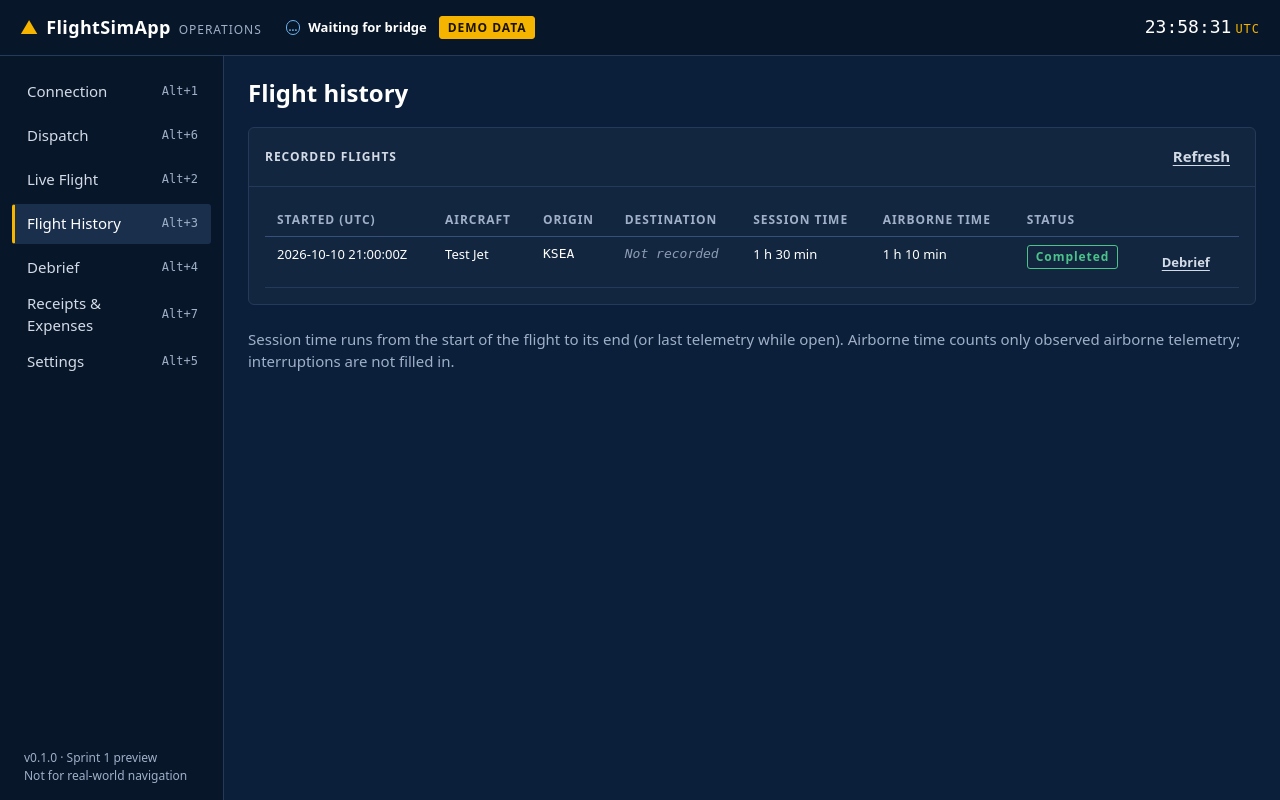
flight history › lists recorded flights with session vs airborne time and navigates to their debrief (test data only)
Expected: the row "Test Jet" shows "KSEA", [543,246,574,261]
Expected: the row "Test Jet" shows "Not recorded", [625,246,719,261]
Click the button with aria-label "Open debrief".
click(1186, 262)  # box [1153,245,1219,279]
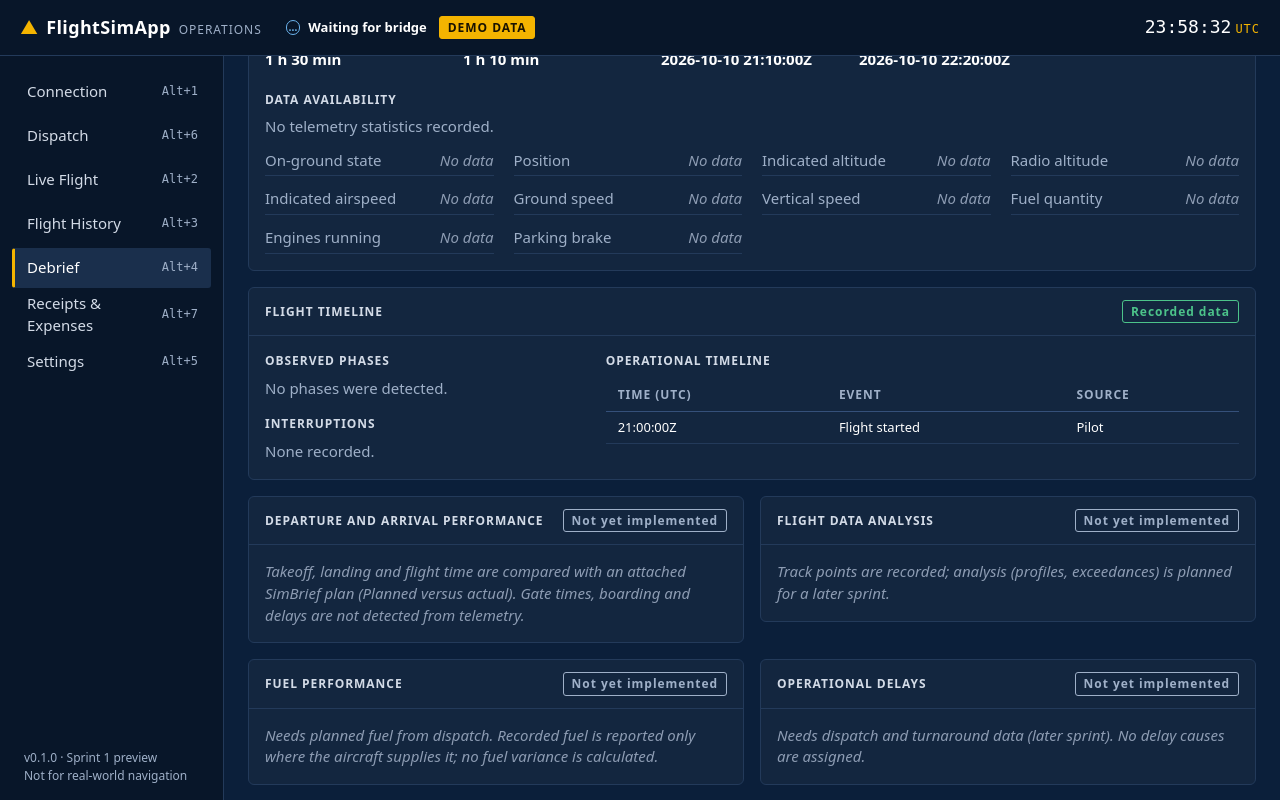
Now the text "Recorded data" is shown 2 times
Now the cell "Flight started" is shown, box [827,412,1064,443]
